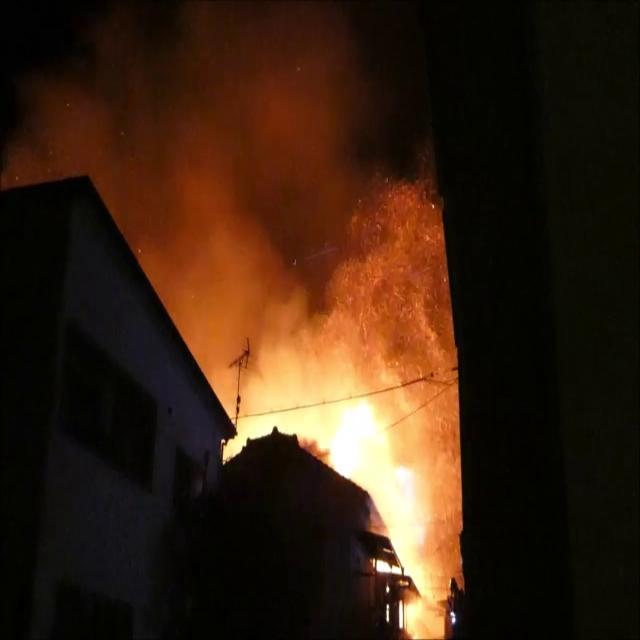Fire: (318, 352, 444, 629)
Smoke: (2, 1, 436, 379)
